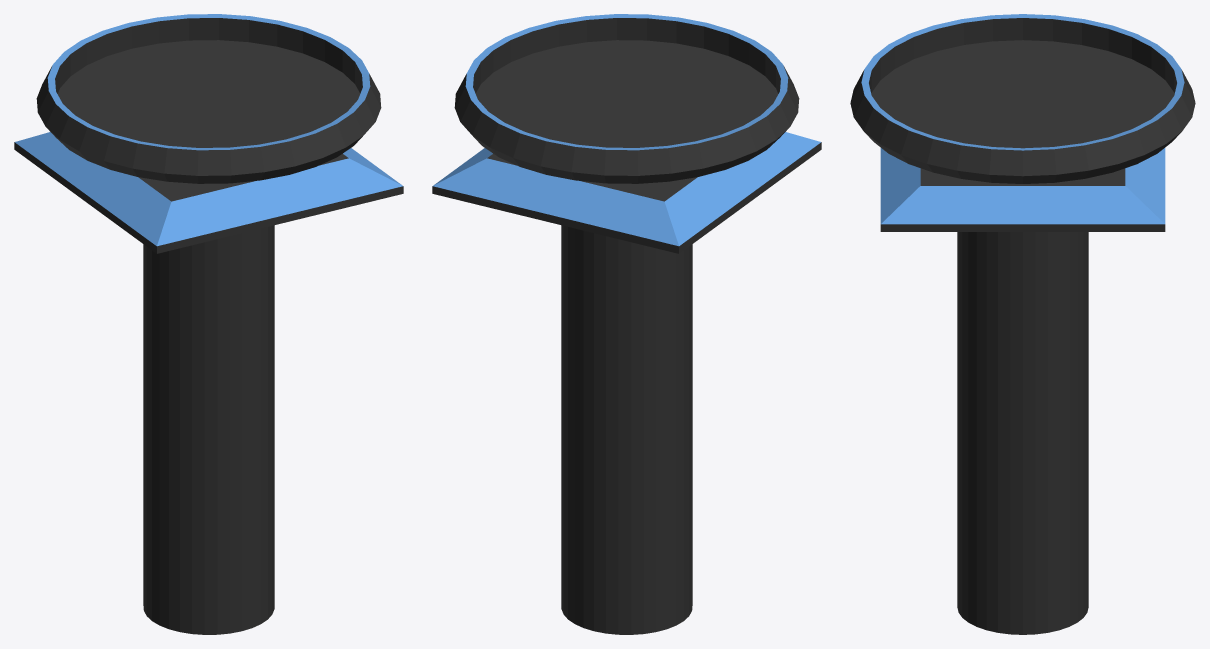
File: Pallet.fbx
3 views of the same model, side by side, from view 1: azimuth 30°, elevation 25°; view 2: azimuth 150°, elevation 25°; view 3: azimuth 270°, elevation 25° (orthographic).
Visible parts, largest first — view 1: Pallet1, Pallet2; view 2: Pallet1, Pallet2; view 3: Pallet1, Pallet2.
Boxes of the visible parts, left/top/right/bottom form: Pallet1: left=36, top=14, right=381, bottom=634; Pallet2: left=14, top=132, right=403, bottom=253; Pallet1: left=454, top=14, right=799, bottom=634; Pallet2: left=432, top=132, right=821, bottom=253; Pallet1: left=850, top=14, right=1195, bottom=634; Pallet2: left=880, top=148, right=1165, bottom=231.
Size of the model in its own units: 337 by 565 by 337.
